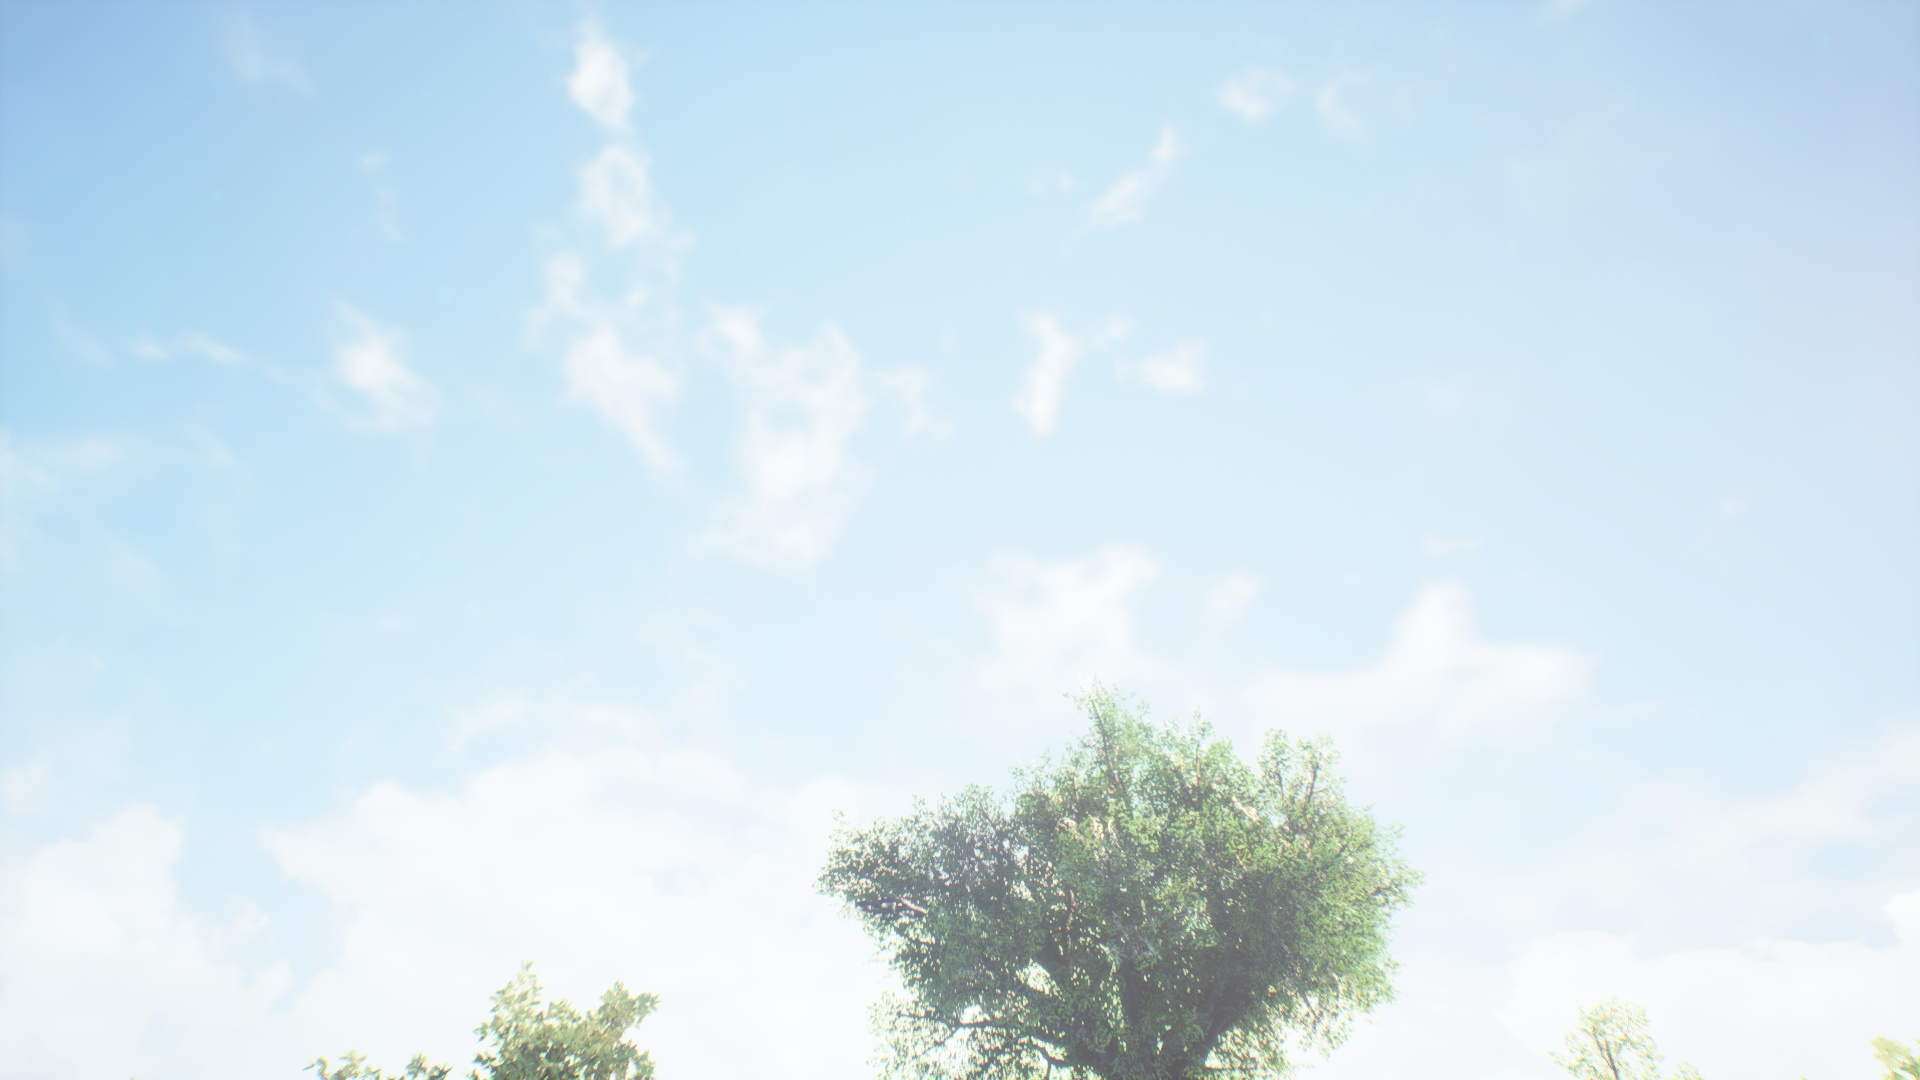UAV: (870, 878, 963, 947)
